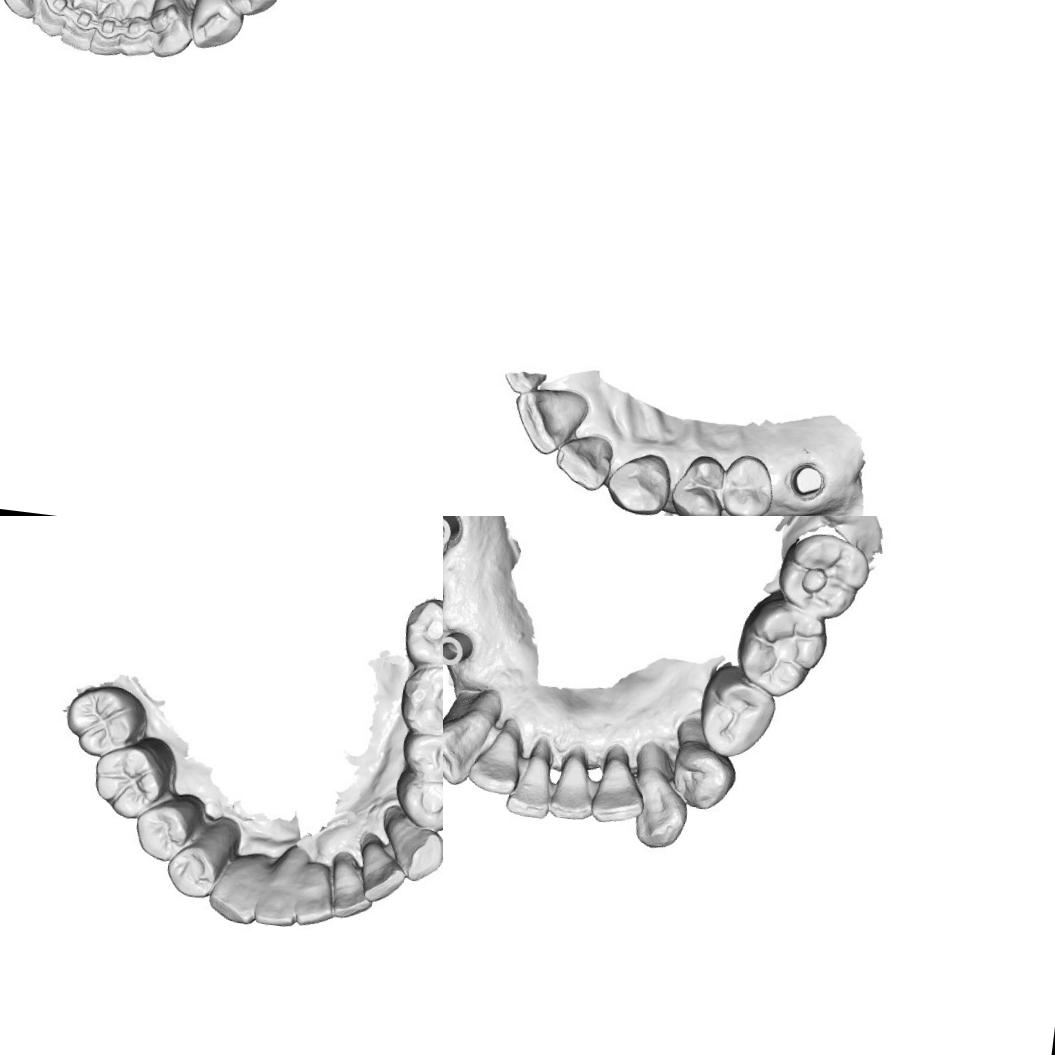abutment: (786, 459, 830, 504)
canine: (625, 743, 698, 850), (443, 686, 497, 785), (378, 802, 443, 880), (604, 447, 673, 516), (204, 850, 262, 924), (145, 0, 198, 63), (0, 0, 49, 22)
implant: (443, 618, 479, 672), (443, 516, 464, 555)
incisor: (510, 382, 594, 462), (249, 840, 311, 932), (502, 735, 564, 823), (588, 746, 652, 830), (466, 715, 526, 800), (552, 431, 618, 495), (548, 748, 599, 826), (355, 834, 408, 902), (288, 855, 338, 925), (328, 852, 377, 920), (119, 0, 163, 55), (61, 0, 102, 48), (90, 0, 126, 52), (32, 0, 78, 36)
molar: (736, 593, 830, 699), (88, 730, 184, 824), (780, 529, 872, 619), (60, 679, 151, 764), (392, 660, 443, 740), (398, 592, 443, 672)
premolar: (695, 663, 783, 764), (667, 735, 738, 811), (666, 450, 729, 516), (717, 450, 778, 516), (134, 802, 190, 862), (391, 771, 443, 832), (163, 844, 221, 898), (395, 725, 443, 786), (191, 0, 245, 51), (217, 0, 291, 24)
